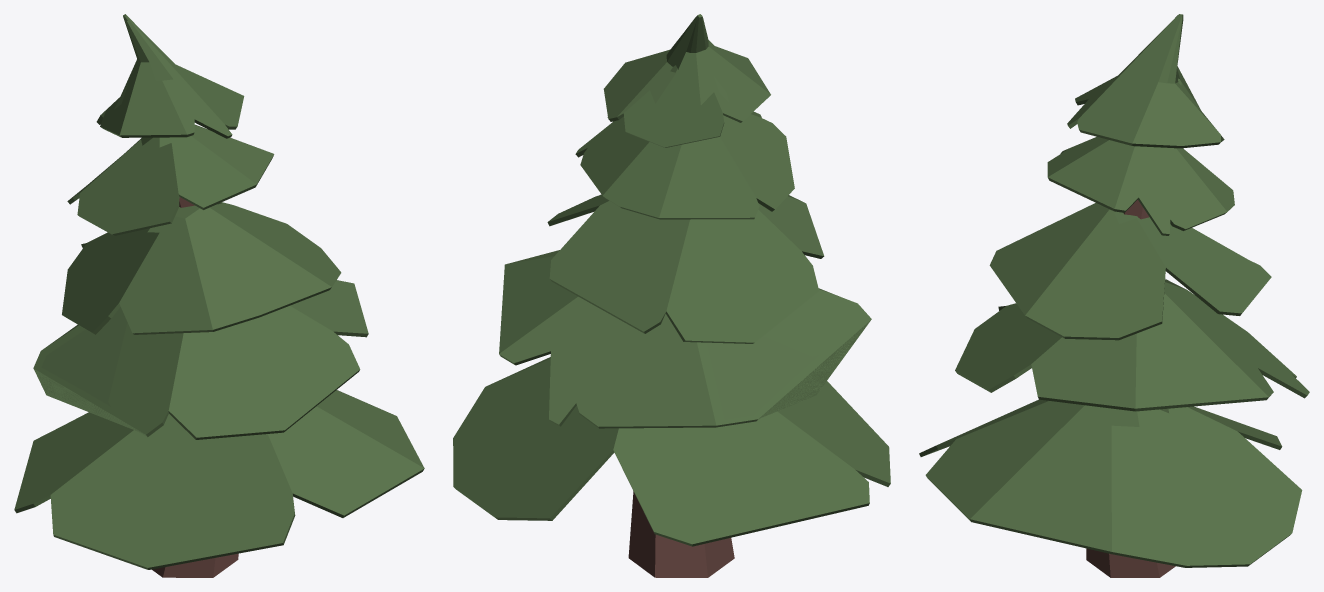
Rendered from PineTree.glb.
The picture shows the model from 3 angles, left to right: view 1: azimuth 30°, elevation 25°; view 2: azimuth 150°, elevation 25°; view 3: azimuth 270°, elevation 25°; orthographic projection. The views are drawn at different scales.
Visible parts, largest first — view 1: PineTree_1; view 2: PineTree_1; view 3: PineTree_1.
Part boxes in pixels (x1,y1,x2,y2): PineTree_1: (14,14,424,577); PineTree_1: (453,14,890,577); PineTree_1: (919,14,1309,577).
Bounding box in the file's own units: 1.96 × 2.7 × 1.82.
